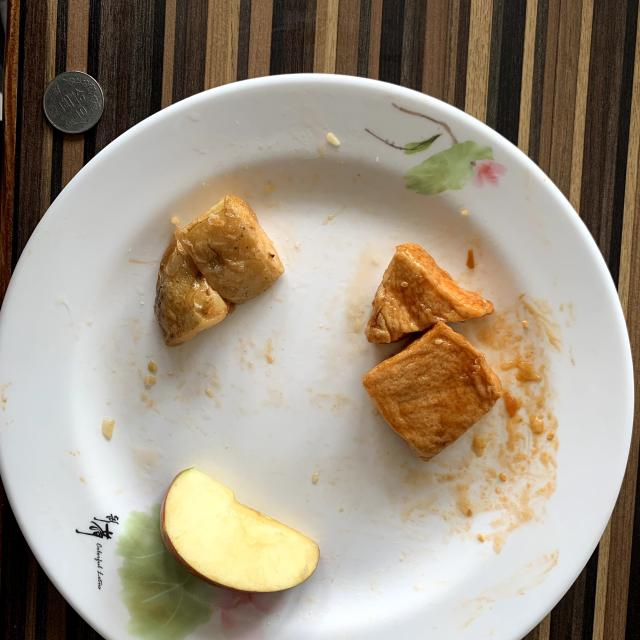apple -sliced-: (160, 468, 319, 592)
coin: (44, 71, 104, 134)
creamy tofu: (362, 242, 502, 461)
fried potato: (154, 195, 284, 346)
